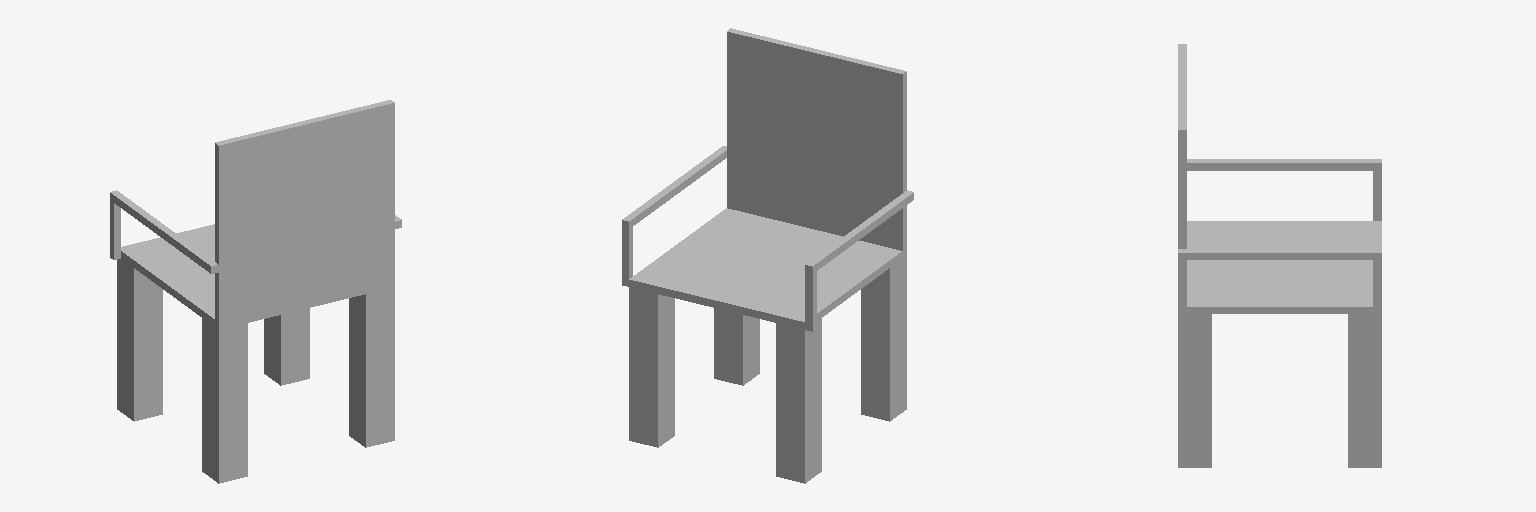
Rendered from Chair.obj.
3 renders of one model, left to right at view 1: azimuth 30°, elevation 25°; view 2: azimuth 150°, elevation 25°; view 3: azimuth 270°, elevation 25°, orthographic.
Parts seen in each view (by area): view 1: Cube.005, Cube.001, Cube.004, Cube.002, Cube, Cube.003, Cube.009, Cube.008; view 2: Cube.005, Cube, Cube.002, Cube.003, Cube.001, Cube.004, Cube.009, Cube.007, Cube.008, Cube.006; view 3: Cube, Cube.004, Cube.003, Cube.009, Cube.005, Cube.007, Cube.006.
Boxes of the visible parts, <box> form: Cube.005: <box>215,100,394,329</box>; Cube.001: <box>202,318,247,483</box>; Cube.004: <box>349,287,394,447</box>; Cube.002: <box>117,259,162,421</box>; Cube: <box>121,224,394,329</box>; Cube.003: <box>264,308,309,385</box>; Cube.009: <box>110,190,218,273</box>; Cube.008: <box>110,197,120,259</box>; Cube.005: <box>727,28,906,256</box>; Cube: <box>629,208,906,329</box>; Cube.002: <box>776,318,821,483</box>; Cube.003: <box>629,287,674,447</box>; Cube.001: <box>861,256,906,421</box>; Cube.004: <box>714,308,759,385</box>; Cube.009: <box>805,190,913,273</box>; Cube.007: <box>622,146,726,228</box>; Cube.008: <box>805,268,816,331</box>; Cube.006: <box>622,224,632,286</box>; Cube: <box>1178,221,1381,313</box>; Cube.004: <box>1178,314,1211,467</box>; Cube.003: <box>1348,314,1381,467</box>; Cube.009: <box>1187,159,1381,170</box>; Cube.005: <box>1178,44,1186,312</box>; Cube.007: <box>1178,249,1381,259</box>; Cube.006: <box>1373,256,1381,317</box>.
Bounding box in the file's own units: 13 × 22 × 12.